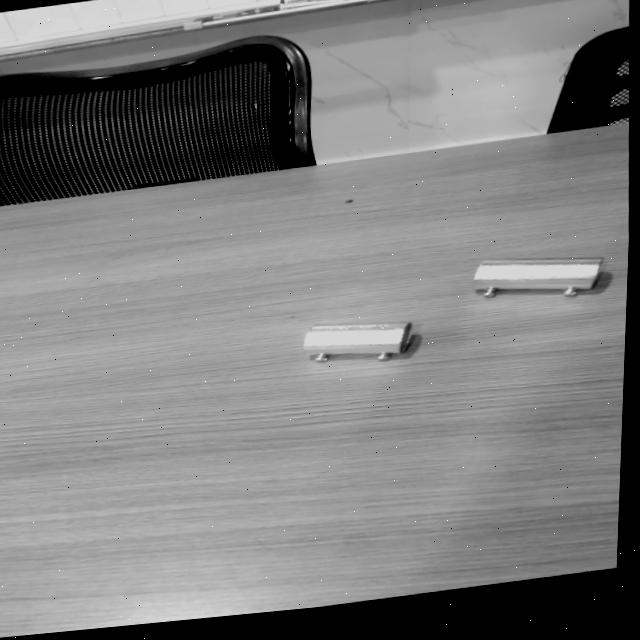Co_Lon: (472, 256, 601, 296)
Co_Nho: (302, 321, 411, 360)
